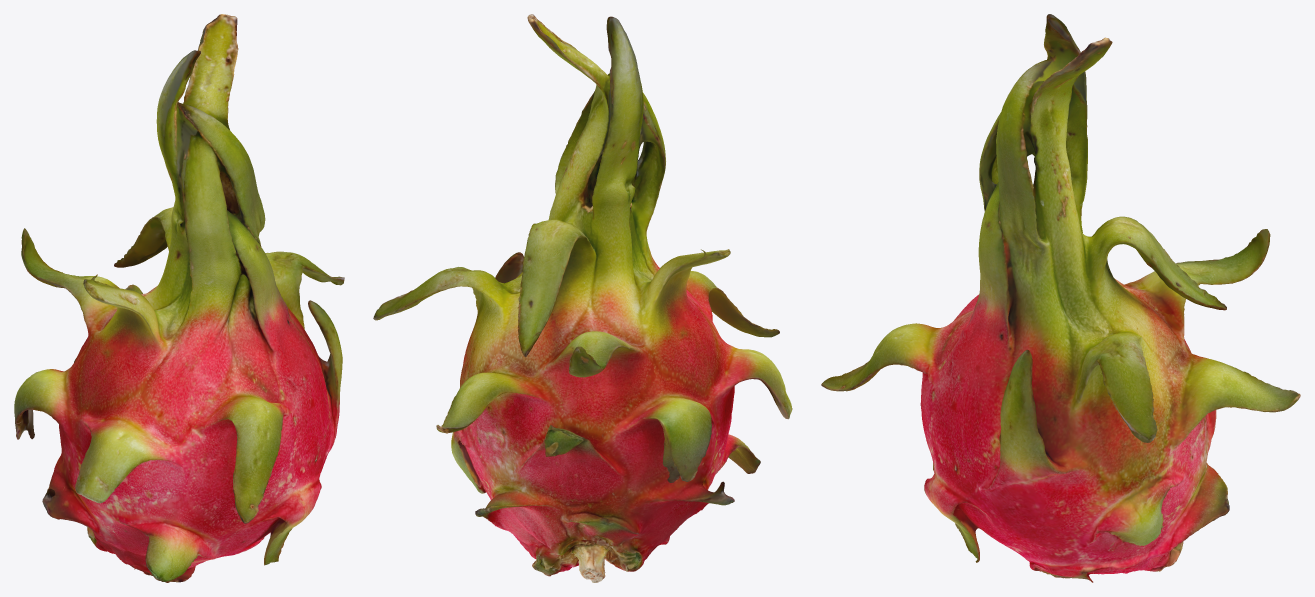
The model's file is dragon_fruit.glb.
3 views of the same model, side by side, from view 1: azimuth 30°, elevation 25°; view 2: azimuth 150°, elevation 25°; view 3: azimuth 270°, elevation 25° (orthographic). The views are drawn at different scales.
Parts seen in each view (by area): view 1: Object_2; view 2: Object_2; view 3: Object_2.
Boxes of the visible parts, x1,y1,x2,y2 form: Object_2: (14, 14, 344, 582); Object_2: (373, 14, 792, 582); Object_2: (821, 14, 1300, 582).
Size of the model in its own units: 0.6864 by 1.02 by 0.7988.
Materials: 1 (1 with a texture image).
